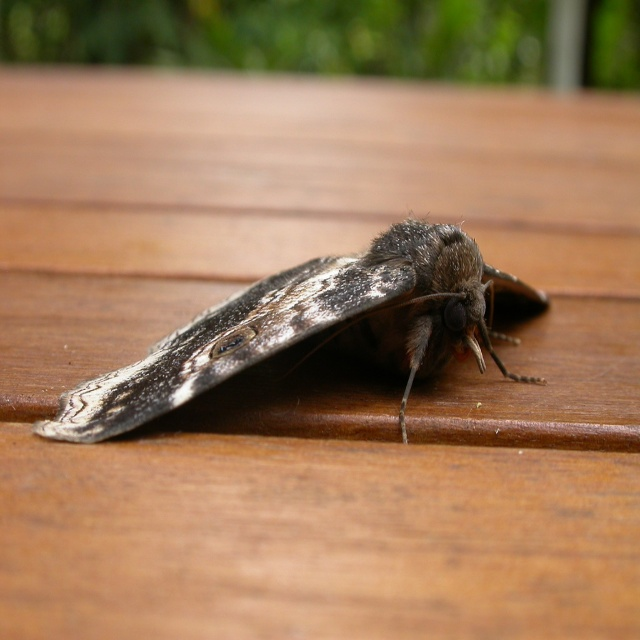Moths and butterflies: (27, 212, 553, 443)
